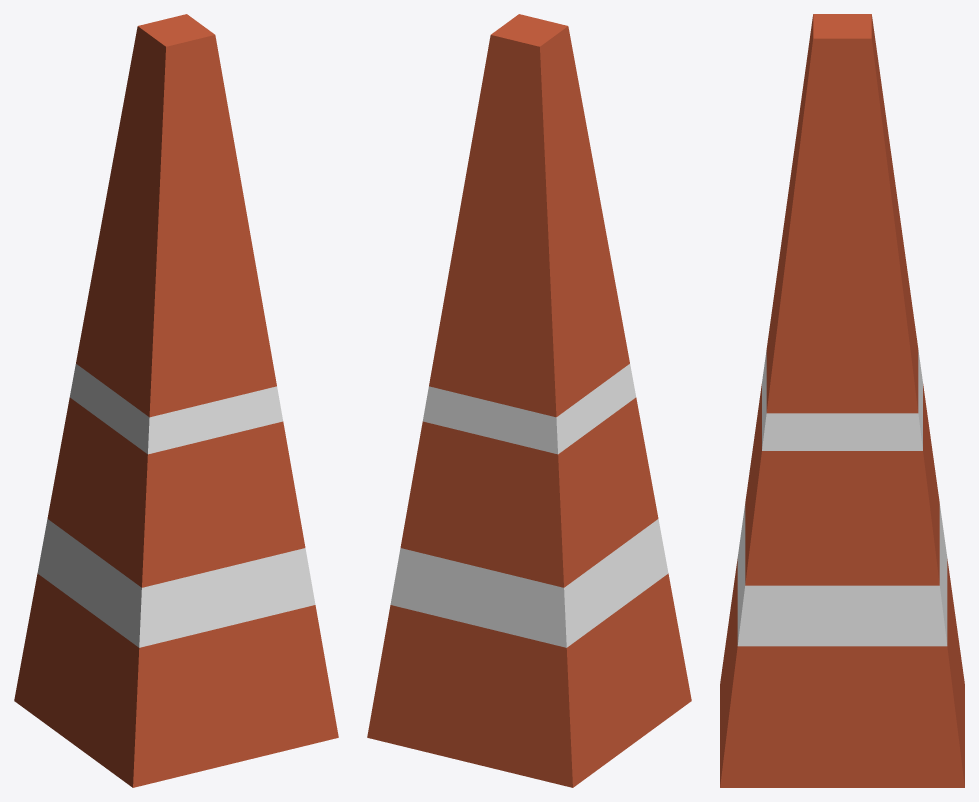
Rendered from barier.fbx.
The picture shows the model from 3 angles, left to right: view 1: azimuth 30°, elevation 25°; view 2: azimuth 150°, elevation 25°; view 3: azimuth 270°, elevation 25°; orthographic projection. The views are drawn at different scales.
Parts seen in each view (by area): view 1: barier; view 2: barier; view 3: barier.
Boxes of the visible parts, <box> form: barier: <box>14,14,338,787</box>; barier: <box>367,14,691,787</box>; barier: <box>720,14,964,787</box>.
Bounding box in the file's own units: 19.58 × 62.6 × 19.58.
